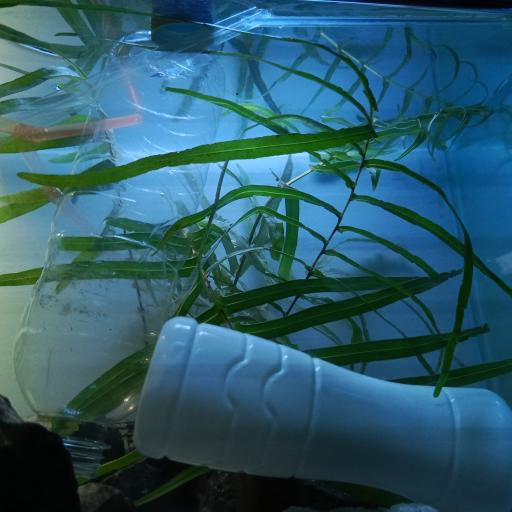bottle_cap: (152, 7, 215, 51)
plastic_bottle: (15, 0, 239, 473), (130, 313, 511, 512)
plastic_straw: (1, 8, 274, 134), (19, 140, 105, 238), (2, 117, 141, 143)
